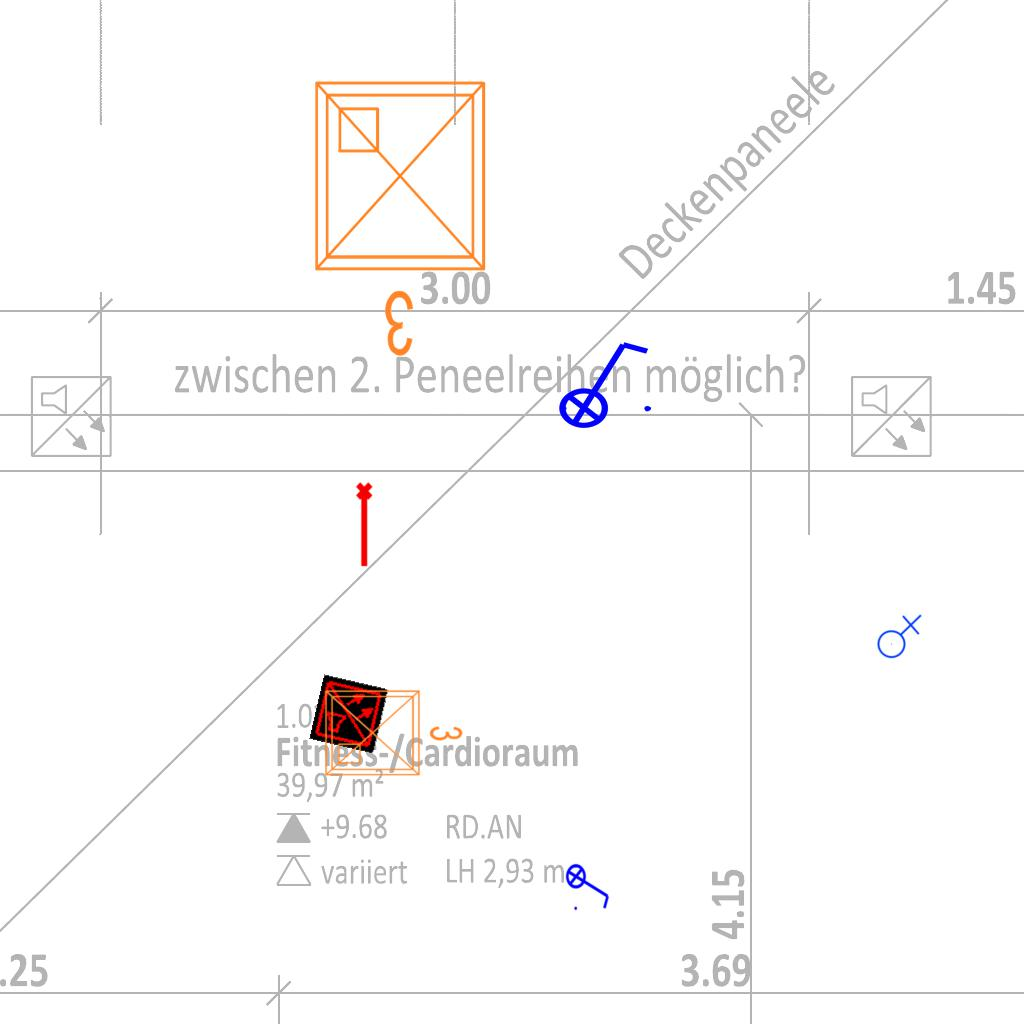ASR_Ansaugoeffnung: (354, 481, 377, 569)
Ausschalter_beleuchtet: (545, 334, 657, 430), (565, 857, 613, 913)
Einbaudownlights_LED_Konferenzraeume: (300, 67, 508, 367), (318, 679, 468, 783)
Elektroanschluss_allgemein_230V_Geraeteanschlussdose_230V: (873, 612, 922, 659)
OKW_Multisensormelder_(Kombination_optischer_Rauch-Kahlenmonoxid_Waerme-Melder): (309, 674, 389, 754)
